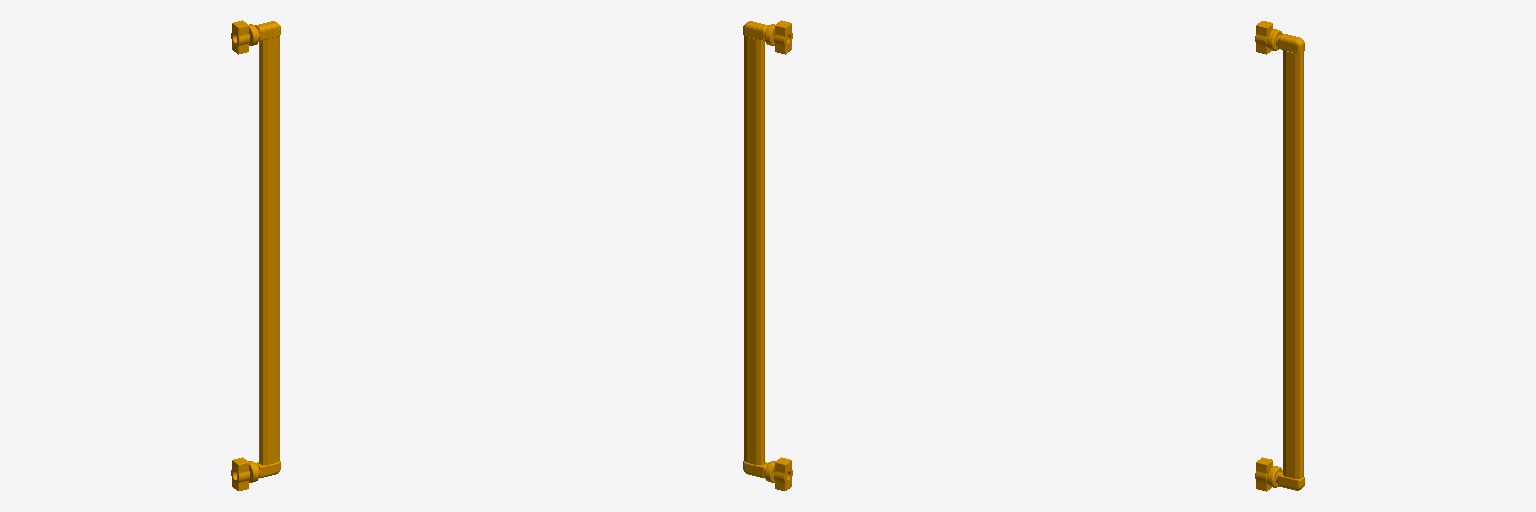
URDF robot description (handrail):
<?xml version="1.0"?>

<!-- Copyright (c) 2017, United States Government, as represented by the     -->
<!-- Administrator of the National Aeronautics and Space Administration.     -->
<!--                                                                         -->
<!-- All rights reserved.                                                    -->
<!--                                                                         -->
<!-- The Astrobee platform is licensed under the Apache License, Version 2.0 -->
<!-- (the "License"); you may not use this file except in compliance with    -->
<!-- the License. You may obtain a copy of the License at                    -->
<!--                                                                         -->
<!--     http://www.apache.org/licenses/LICENSE-2.0                          -->
<!--                                                                         -->
<!-- Unless required by applicable law or agreed to in writing, software     -->
<!-- distributed under the License is distributed on an "AS IS" BASIS,       -->
<!-- WITHOUT WARRANTIES OR CONDITIONS OF ANY KIND, either express or         -->
<!-- implied. See the License for the specific language governing            -->
<!-- permissions and limitations under the License.                          -->

<robot name="handrail" xmlns:xacro="http://www.ros.org/wiki/xacro">
  <link name="body">
    <inertial>
      <mass value="20"/>
      <origin xyz="0 0 0"/>
      <inertia ixx="1" ixy="0" ixz="0" iyy="1" iyz="0" izz="1"/>
    </inertial>
    <visual name="body_visual">
      <origin xyz="0 0 0" rpy="0 0 0" />
      <geometry>
        <mesh filename="package://astrobee_handrail_30/meshes/handrail_30.dae"/>
      </geometry>
    </visual>
    <collision name="body_collision">
      <origin xyz="0 0 0" rpy="0 0 0" />
      <geometry>
        <mesh filename="package://astrobee_handrail_30/meshes/handrail_30.dae"/>
      </geometry>
    </collision>
  </link>
  <gazebo>
    <static>true</static>
  </gazebo>
</robot>

--- Render facts (derived) ---
The picture shows the robot from 3 angles, left to right: view 1: azimuth 30°, elevation 25°; view 2: azimuth 150°, elevation 25°; view 3: azimuth 330°, elevation 25°; orthographic projection.
Robot: handrail — 1 links, 0 joints (none); root link body; default pose: every joint at zero.
Links seen in each view (by area): view 1: body; view 2: body; view 3: body.
Boxes of the visible links, x1=… form: body: x1=231, y1=20, x2=280, y2=490; body: x1=743, y1=20, x2=792, y2=490; body: x1=1255, y1=21, x2=1304, y2=491.
Bounding box of the posed robot: 0.0782 × 0.0331 × 0.7834 m (x, y, z).
Meshes: 1 distinct files referenced, 1 mesh visuals loaded (1 Collada DAE).
